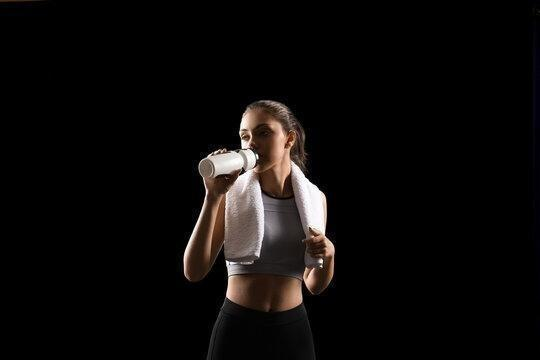gym bottle: (198, 147, 257, 180)
